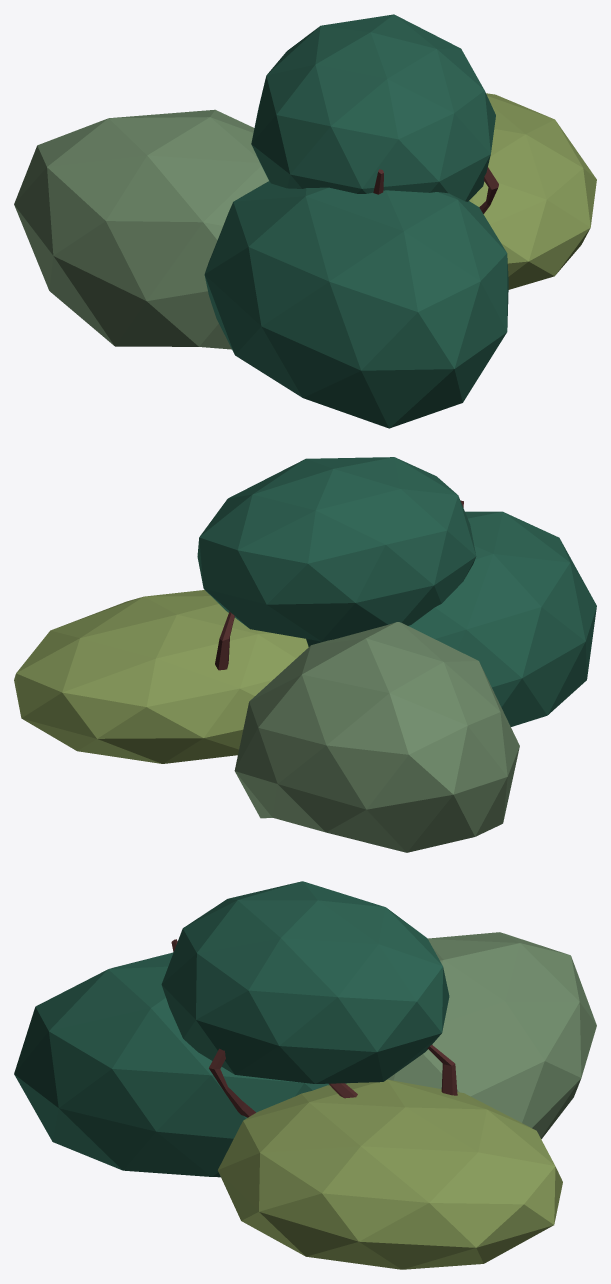
File: lipa_sk2.fbx
3 views of the same model, one above another, from view 1: azimuth 30°, elevation 25°; view 2: azimuth 150°, elevation 25°; view 3: azimuth 270°, elevation 25° (orthographic). The views are drawn at different scales.
Parts seen in each view (by area): view 1: Icosphere.015, Icosphere.014, Icosphere.016, Icosphere.013; view 2: Icosphere.014, Icosphere.016, Icosphere.013, Icosphere.015, Cylinder.004; view 3: Icosphere.013, Icosphere.016, Icosphere.015, Icosphere.014, Cylinder.007, Cylinder.004.
Part boxes in pixels (bbox=[...]): Icosphere.015: bbox=[204, 181, 508, 428]; Icosphere.014: bbox=[14, 109, 268, 349]; Icosphere.016: bbox=[251, 14, 495, 201]; Icosphere.013: bbox=[469, 93, 596, 289]; Icosphere.014: bbox=[234, 622, 519, 852]; Icosphere.016: bbox=[197, 457, 476, 641]; Icosphere.013: bbox=[14, 590, 308, 763]; Icosphere.015: bbox=[306, 511, 596, 726]; Cylinder.004: bbox=[215, 611, 234, 670]; Icosphere.013: bbox=[218, 1079, 562, 1269]; Icosphere.016: bbox=[161, 881, 449, 1083]; Icosphere.015: bbox=[14, 952, 349, 1177]; Icosphere.014: bbox=[387, 932, 596, 1138]; Cylinder.007: bbox=[209, 1048, 255, 1117]; Cylinder.004: bbox=[427, 1045, 457, 1095].
Size of the model in its own units: 112 by 73.53 by 113.
